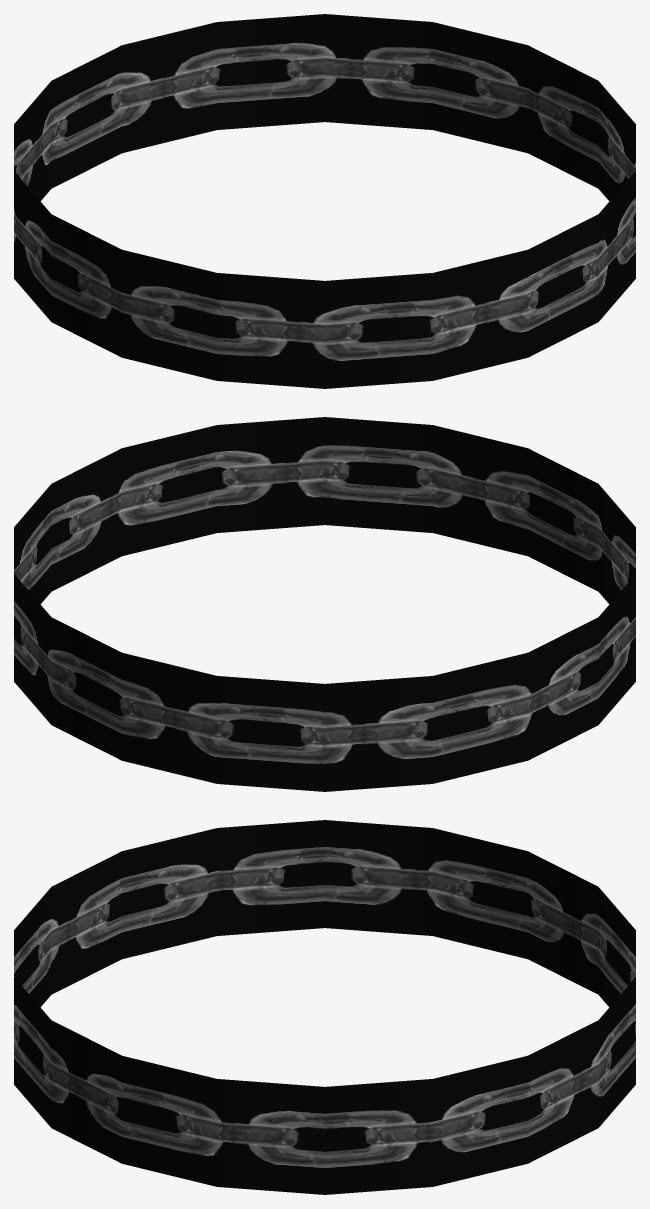
The model's file is suolian.FBX.
3 views of the same model, one above another, from view 1: azimuth 30°, elevation 25°; view 2: azimuth 150°, elevation 25°; view 3: azimuth 270°, elevation 25° (orthographic).
Parts seen in each view (by area): view 1: Cylinder002; view 2: Cylinder002; view 3: Cylinder002.
Boxes of the visible parts, <box> form: Cylinder002: <box>14,14,635,388</box>; Cylinder002: <box>14,417,635,791</box>; Cylinder002: <box>14,820,635,1194</box>.
Bounding box in the file's own units: 67.09 × 12.66 × 66.07.
